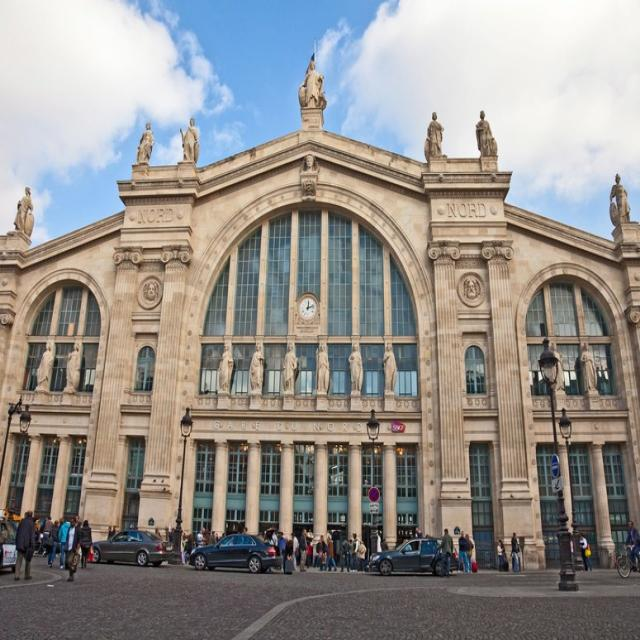body: (216, 336, 402, 400), (296, 51, 326, 198), (132, 114, 202, 170), (422, 109, 497, 160), (547, 336, 602, 398), (144, 526, 225, 568), (34, 338, 83, 397), (239, 525, 294, 574), (12, 508, 38, 582), (306, 533, 354, 573), (606, 168, 634, 232), (11, 184, 39, 242), (32, 516, 64, 560), (64, 514, 81, 582), (435, 526, 454, 580), (622, 519, 639, 572), (78, 518, 95, 570), (462, 271, 487, 305), (57, 516, 72, 570), (135, 278, 161, 308), (45, 519, 60, 568), (375, 534, 413, 553), (570, 538, 592, 570), (456, 529, 471, 574), (299, 526, 309, 573), (578, 533, 590, 572), (463, 532, 474, 574), (351, 532, 361, 574), (290, 531, 300, 572), (73, 516, 82, 558), (498, 538, 509, 572), (358, 538, 368, 572), (2, 509, 26, 523), (496, 541, 504, 569), (510, 531, 520, 553), (107, 524, 117, 542), (414, 526, 423, 538)
